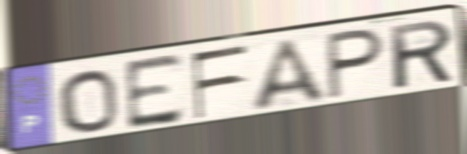A: (249, 36, 333, 114)
E: (121, 51, 185, 134)
F: (188, 42, 251, 122)
O: (54, 68, 121, 135)
P: (324, 26, 387, 103)
R: (387, 16, 456, 92)
